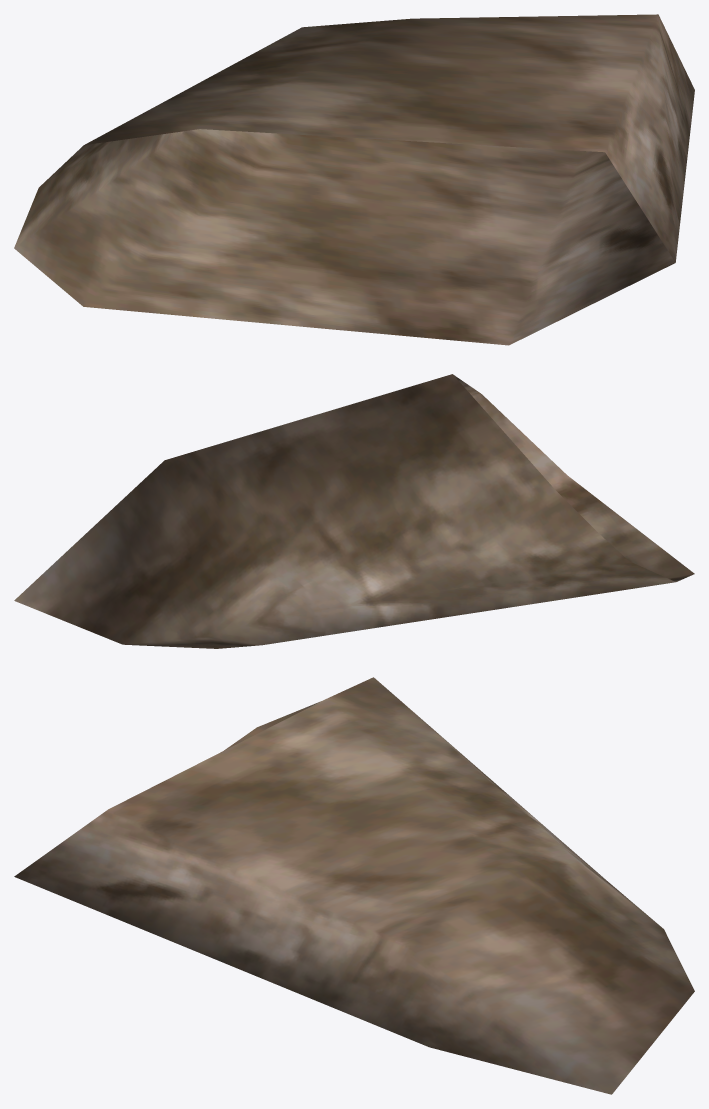
Rendered from OVERHILL_A_01_ROCK03.fbx.
3 views of the same model, one above another, from view 1: azimuth 30°, elevation 25°; view 2: azimuth 150°, elevation 25°; view 3: azimuth 270°, elevation 25° (orthographic). The views are drawn at different scales.
Visible parts, largest first — view 1: OVERHILL_A_01_ROCK03; view 2: OVERHILL_A_01_ROCK03; view 3: OVERHILL_A_01_ROCK03.
Boxes of the visible parts, x1=… form: OVERHILL_A_01_ROCK03: x1=14, y1=14, x2=694, y2=345; OVERHILL_A_01_ROCK03: x1=14, y1=374, x2=694, y2=648; OVERHILL_A_01_ROCK03: x1=14, y1=677, x2=694, y2=1094.
Size of the model in its own units: 25414 by 6043 by 22928.
Materials: 1 (1 with a texture image).
